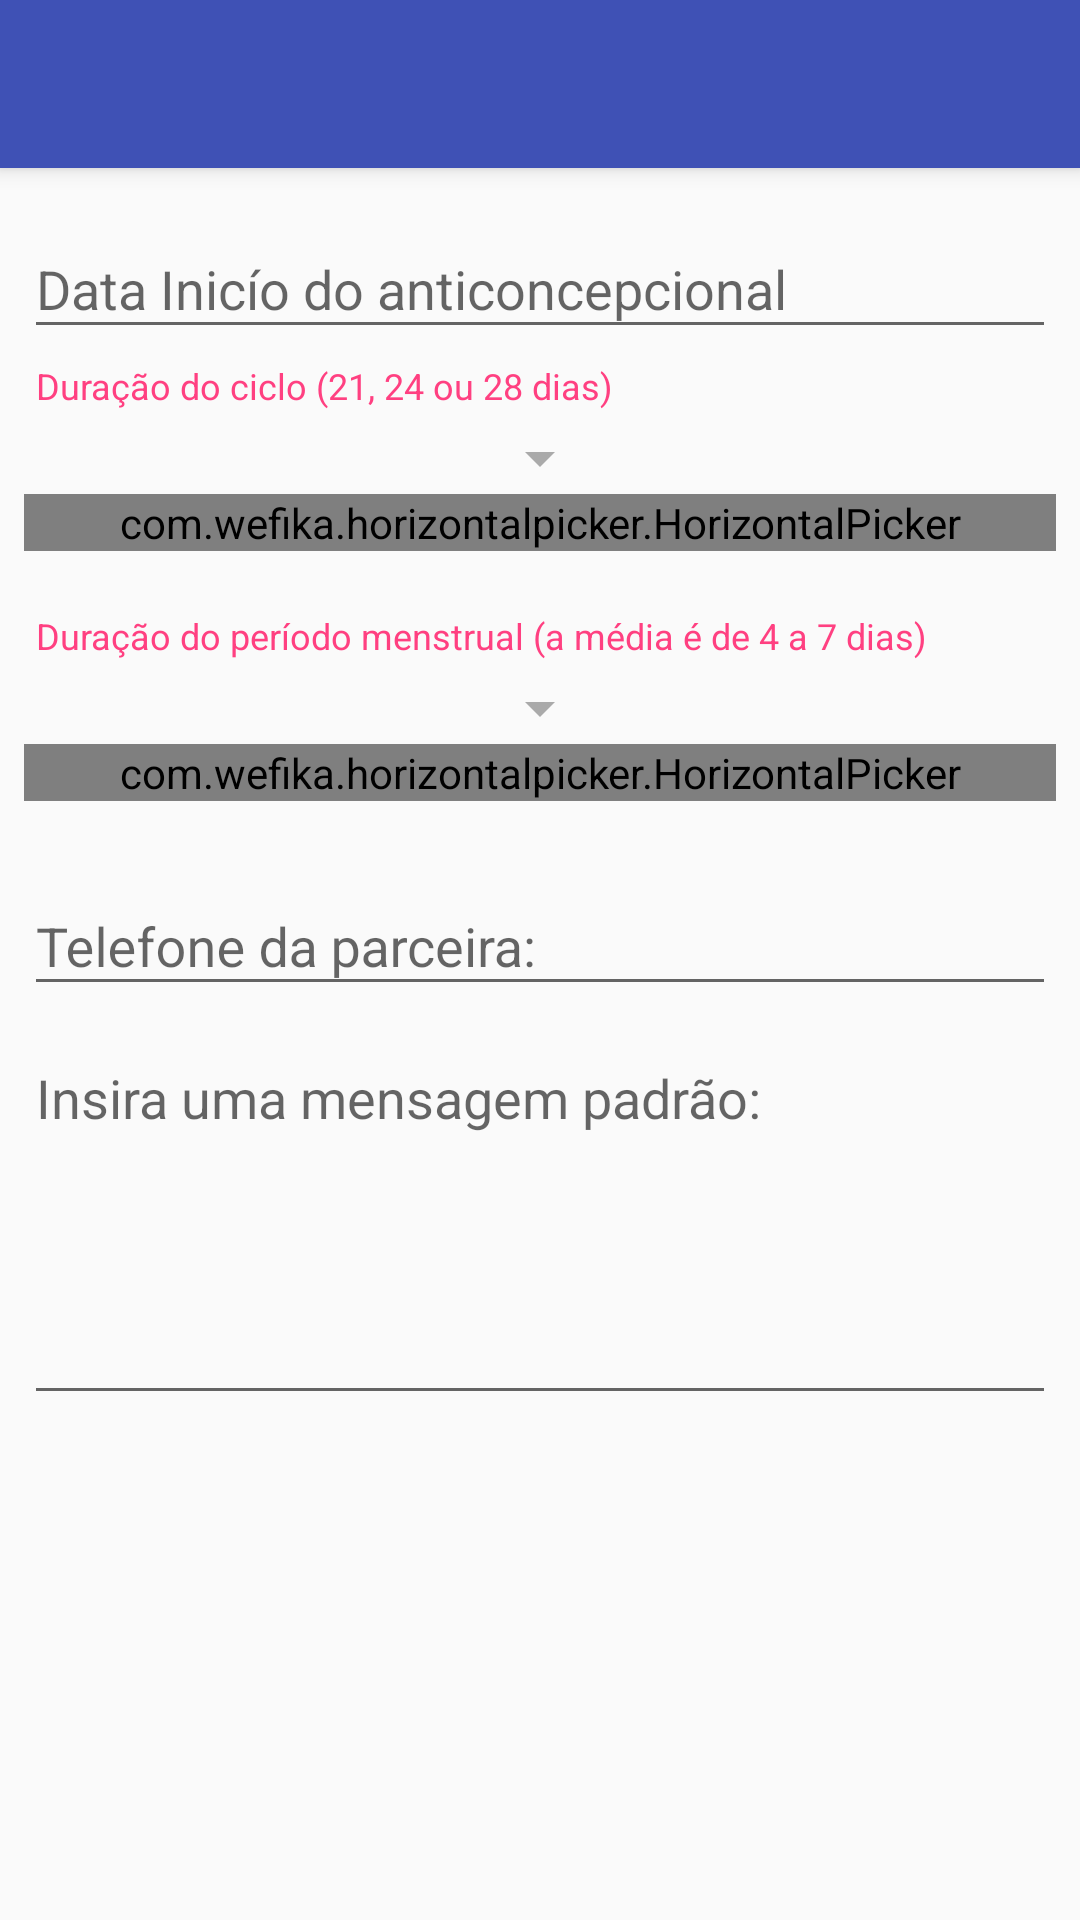

Icons on this 1080px×1920px Android screen, each with its box as (x1, y1, x2, y2):
arrow drop down: (525, 452, 555, 467), (525, 702, 555, 717)
